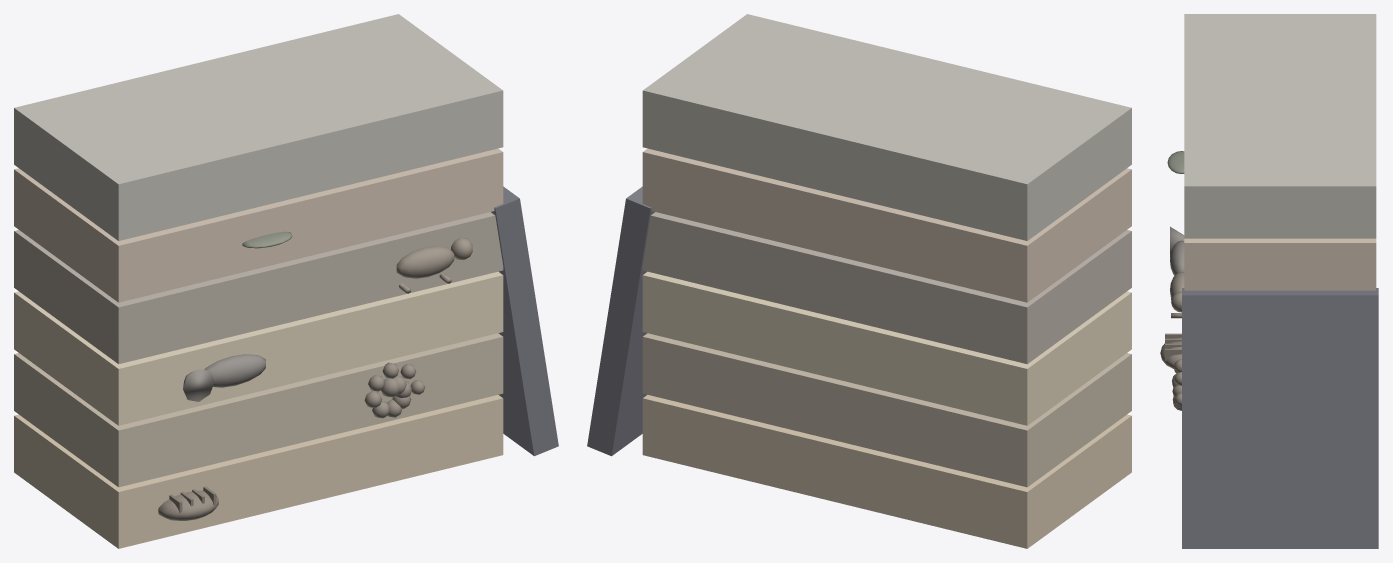
File: fossil_strata.glb
3 renders of one model, left to right at view 1: azimuth 30°, elevation 25°; view 2: azimuth 150°, elevation 25°; view 3: azimuth 270°, elevation 25°, orthographic. The views are drawn at different scales.
Parts seen in each view (by area): view 1: layer_6, layer_5, layer_1, layer_2, layer_4, layer_3, intrusion, fossil_fish, fossil_ammonite, fossil_mammal, fossil_trilobite; view 2: layer_6, layer_2, layer_3, layer_1, layer_5, layer_4, intrusion; view 3: intrusion, layer_6, layer_5, fossil_fish, fossil_trilobite, fossil_mammal, fossil_ammonite, fossil_leaf.
Part boxes in pixels (x1=…): layer_6: x1=14, y1=14, x2=503, y2=240; layer_5: x1=14, y1=148, x2=503, y2=302; layer_1: x1=14, y1=395, x2=503, y2=548; layer_2: x1=14, y1=333, x2=503, y2=487; layer_4: x1=14, y1=212, x2=503, y2=364; layer_3: x1=14, y1=271, x2=503, y2=425; intrusion: x1=491, y1=186, x2=558, y2=456; fossil_fish: x1=183, y1=354, x2=265, y2=401; fossil_ammonite: x1=364, y1=362, x2=425, y2=418; fossil_mammal: x1=396, y1=237, x2=472, y2=293; fossil_trilobite: x1=158, y1=486, x2=218, y2=520; layer_6: x1=642, y1=14, x2=1131, y2=240; layer_2: x1=642, y1=333, x2=1131, y2=487; layer_3: x1=642, y1=271, x2=1131, y2=425; layer_1: x1=642, y1=395, x2=1131, y2=548; layer_5: x1=642, y1=148, x2=1131, y2=302; layer_4: x1=642, y1=212, x2=1131, y2=364; intrusion: x1=587, y1=186, x2=654, y2=456; intrusion: x1=1182, y1=288, x2=1378, y2=548; layer_6: x1=1184, y1=14, x2=1376, y2=238; layer_5: x1=1184, y1=238, x2=1376, y2=290; fossil_fish: x1=1170, y1=226, x2=1184, y2=275; fossil_trilobite: x1=1160, y1=333, x2=1181, y2=368; fossil_mammal: x1=1170, y1=271, x2=1184, y2=318; fossil_ammonite: x1=1172, y1=359, x2=1181, y2=410; fossil_leaf: x1=1167, y1=151, x2=1184, y2=173.
Size of the model in its own units: 1.94 by 1.57 by 0.91.
